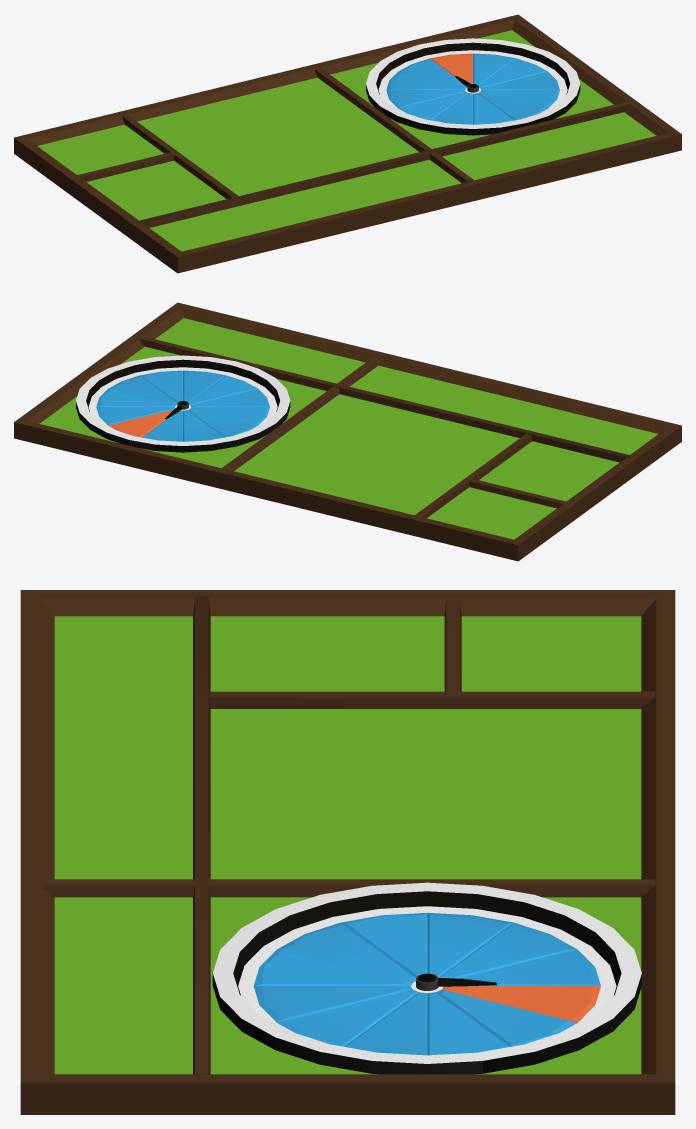
The model's file is board_and_clock_2.fbx.
3 views of the same model, one above another, from view 1: azimuth 30°, elevation 25°; view 2: azimuth 150°, elevation 25°; view 3: azimuth 270°, elevation 25° (orthographic). The views are drawn at different scales.
Visible parts, largest first — view 1: Cube, Circle.013, Cube.002, Cube.003, Cube.004, Cube.005; view 2: Cube, Circle.013, Cube.002, Cube.003, Cube.004, Cube.005; view 3: Cube, Circle.013, Cube.003, Cube.002, Cube.004, Cube.005.
Boxes of the visible parts, x1,y1,x2,y2 form: Cube: (14,14,681,273); Circle.013: (366,38,580,135); Cube.002: (137,101,630,227); Cube.003: (315,67,473,183); Cube.004: (122,115,238,198); Cube.005: (77,152,174,181); Cube: (14,302,681,561); Circle.013: (76,355,290,452); Cube.002: (139,336,631,462); Cube.003: (222,355,380,471); Cube.004: (415,434,531,518); Cube.005: (469,479,566,508); Cube: (20,590,675,1114); Circle.013: (212,882,641,1074); Cube.003: (40,879,655,897); Cube.002: (193,596,210,1074); Cube.004: (209,691,655,708); Cube.005: (444,599,461,691).
Bounding box in the file's own units: 2549 × 89.01 × 1432.
Materials: 1 (1 with a texture image).
